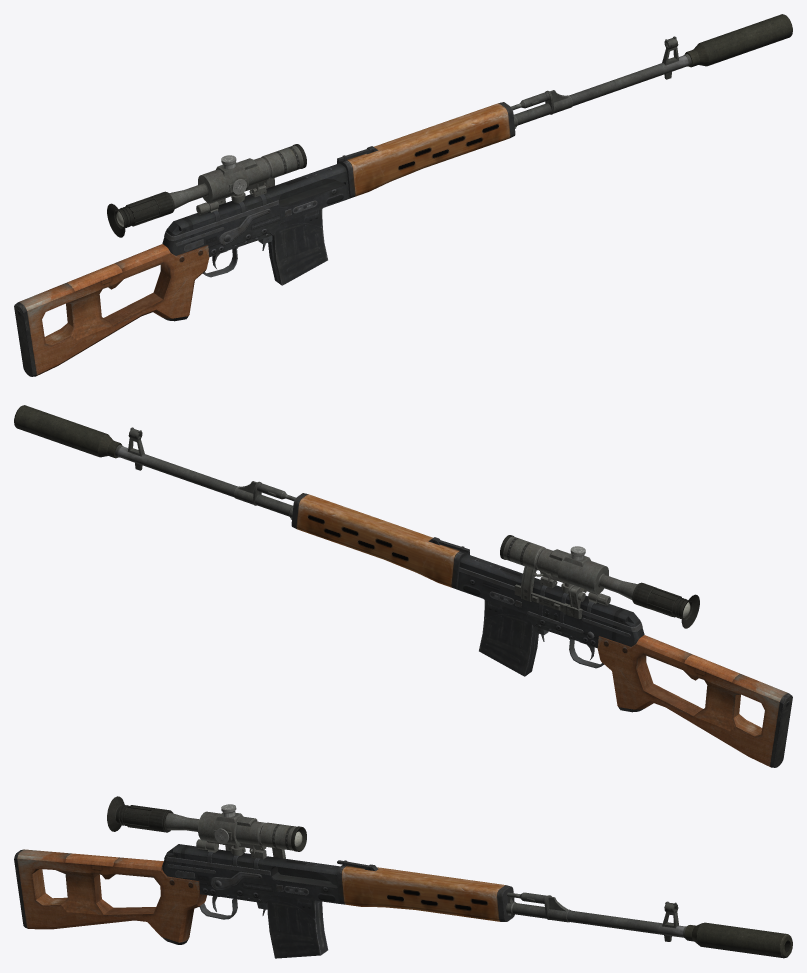
File: svd.obj
The picture shows the model from 3 angles, top to bottom: view 1: azimuth 30°, elevation 25°; view 2: azimuth 150°, elevation 25°; view 3: azimuth 330°, elevation 25°; orthographic projection.
Size of the model in its own units: 108 by 24.38 by 4.7.
11 materials, 11 textured.
